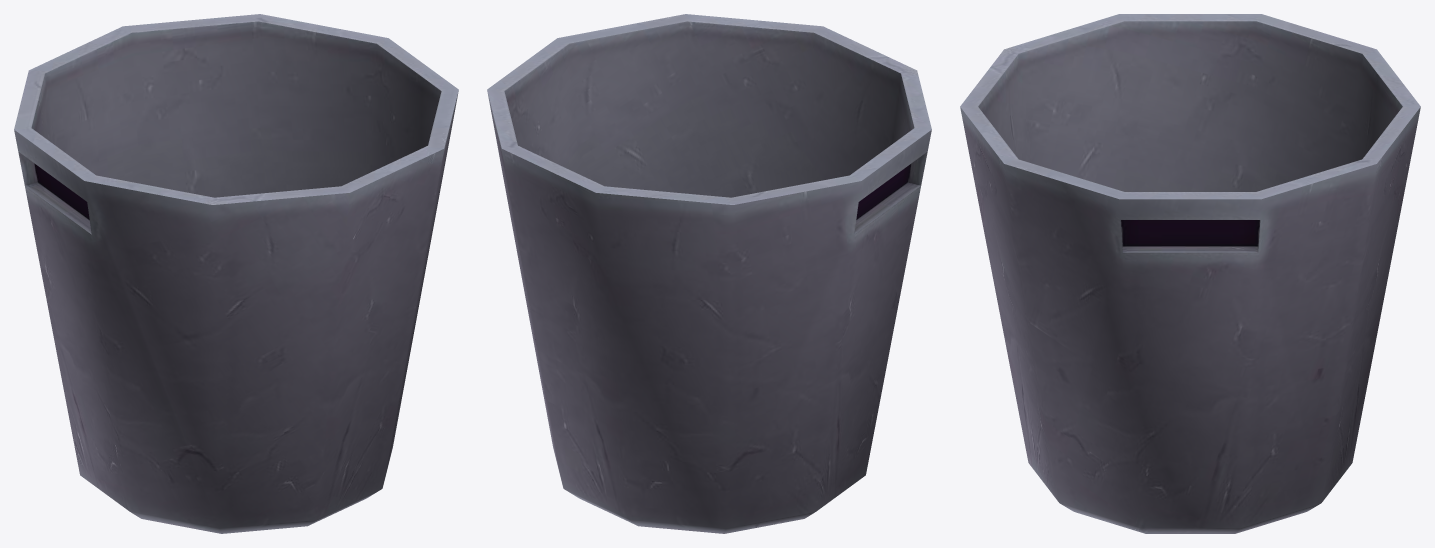
Rendered from Trash Bin.fbx.
3 views of the same model, side by side, from view 1: azimuth 30°, elevation 25°; view 2: azimuth 150°, elevation 25°; view 3: azimuth 270°, elevation 25° (orthographic).
Parts seen in each view (by area): view 1: Trash Bin; view 2: Trash Bin; view 3: Trash Bin.
Part boxes in pixels (<box>): Trash Bin: <box>14,14,458,533</box>; Trash Bin: <box>487,14,931,533</box>; Trash Bin: <box>960,14,1420,533</box>.
Size of the model in its own units: 247 by 230 by 260.
Materials: 1 (1 with a texture image).
